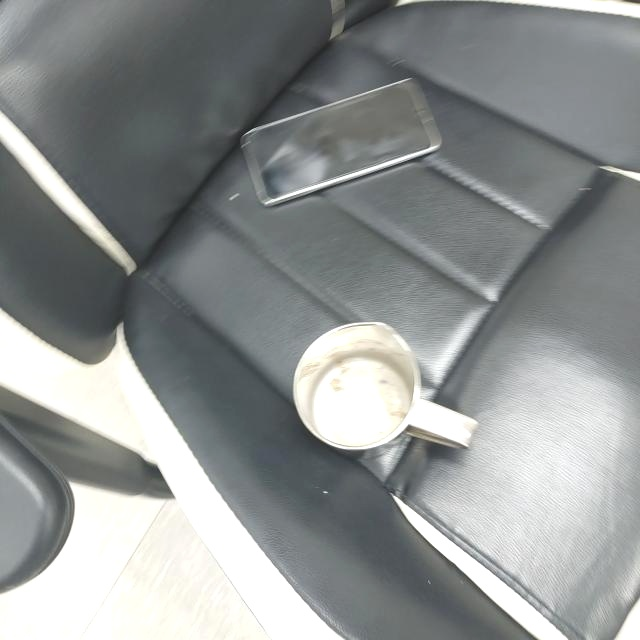cup: (291, 323, 478, 457)
phone: (240, 77, 441, 210)
